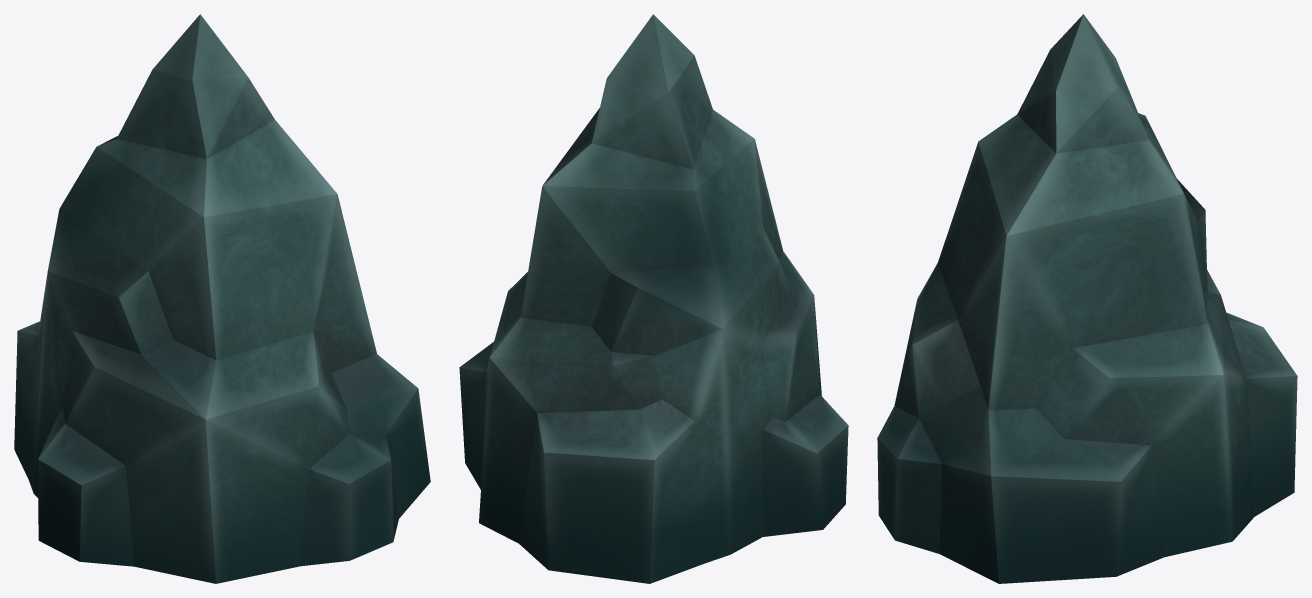
File: rock2.fbx
3 renders of one model, left to right at view 1: azimuth 30°, elevation 25°; view 2: azimuth 150°, elevation 25°; view 3: azimuth 270°, elevation 25°, orthographic.
Visible parts, largest first — view 1: MultiMesher008; view 2: MultiMesher008; view 3: MultiMesher008.
Part boxes in pixels (<box>): MultiMesher008: <box>14,14,430,583</box>; MultiMesher008: <box>459,14,848,583</box>; MultiMesher008: <box>877,14,1297,583</box>.
Size of the model in its own units: 81.64 by 106 by 84.48.
Materials: 1 (1 with a texture image).
